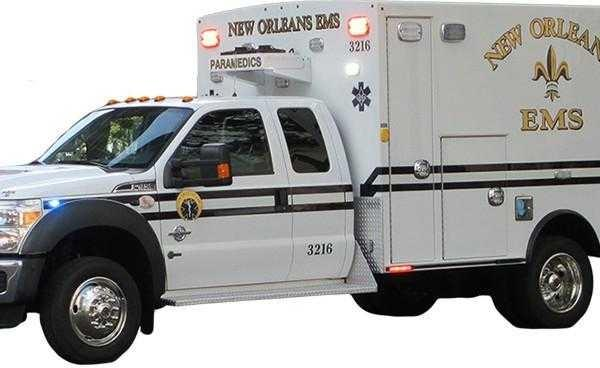car: (0, 0, 599, 364)
